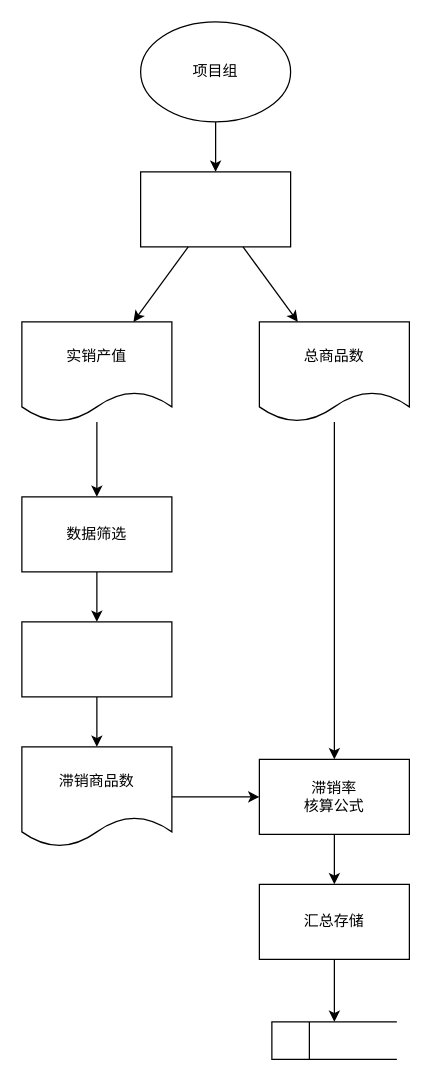
Image size: 431x1081. Some labels were removed from this diagram. Each missing label, with the box of its shape:
滞销商品数 核算公式: (21, 621, 172, 697)
滞销率: (271, 1021, 397, 1059)
调取数据: (139, 171, 291, 247)
